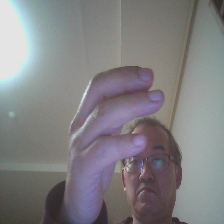hand: (67, 63, 157, 218)
